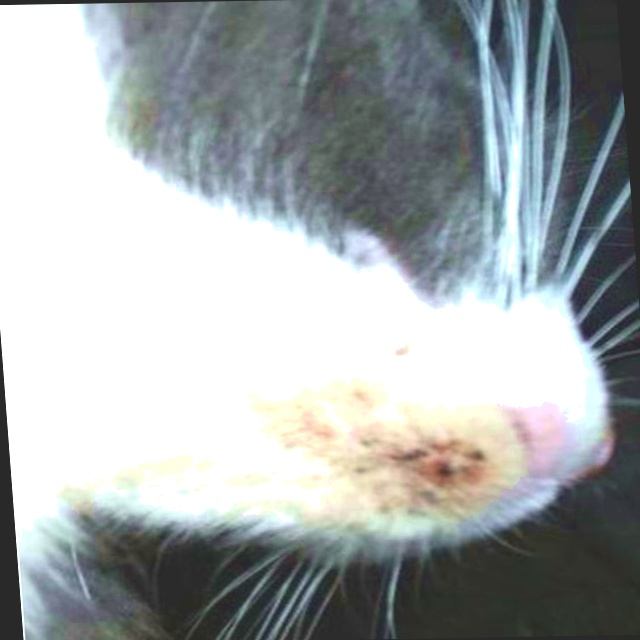acne: (350, 444, 501, 511)
